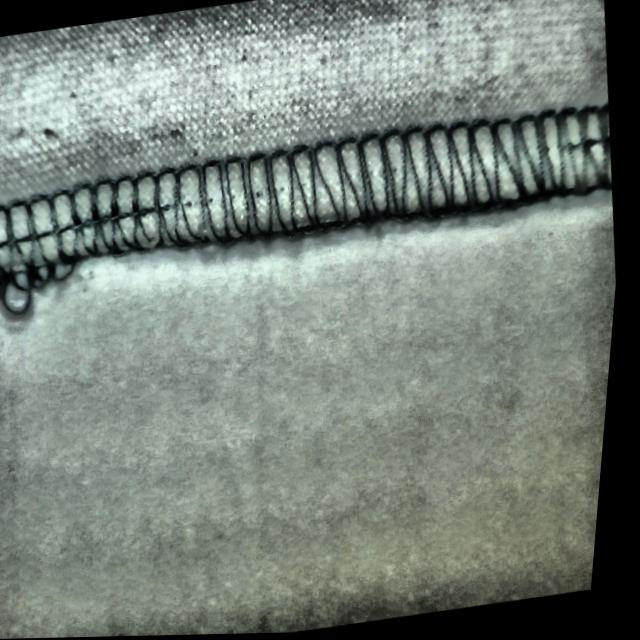Stitch: (0, 181, 96, 367)
